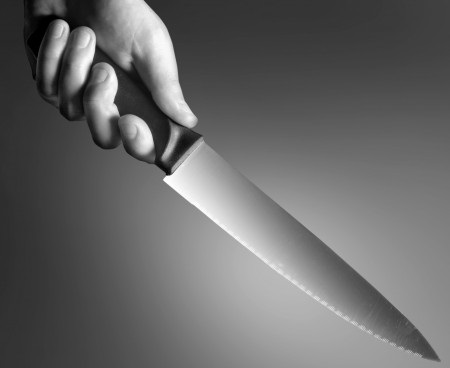knife: (84, 60, 445, 363)
